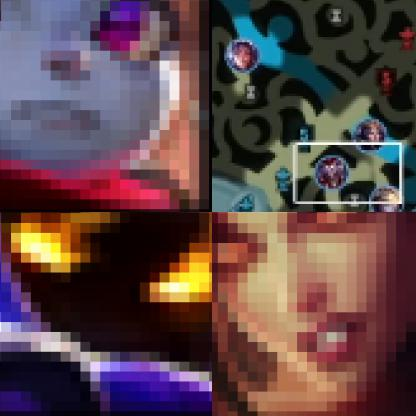Ezreal: (368, 186, 403, 211)
Irelia: (226, 39, 259, 72)
Leblanc: (354, 118, 389, 151)
Poppy: (0, 0, 211, 211)
Shaco: (315, 156, 349, 190)
Veigar: (0, 212, 211, 415)
Zyra: (212, 212, 415, 415)
